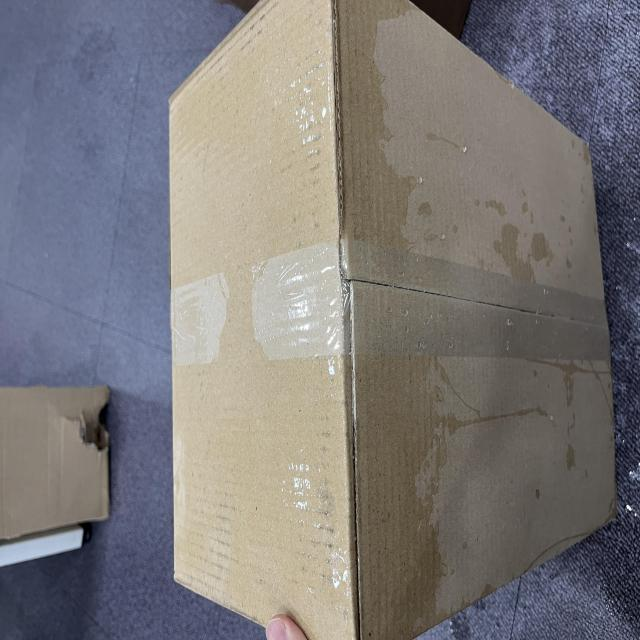wet: (15, 234, 463, 640)
